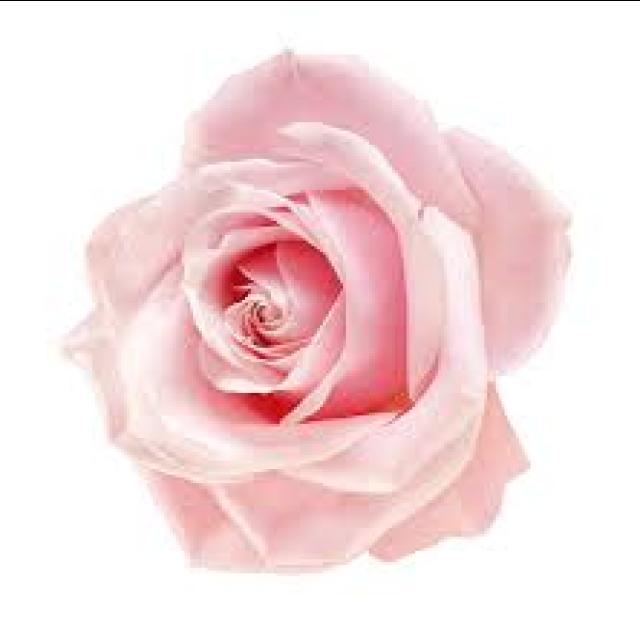rose: (62, 46, 582, 594)
